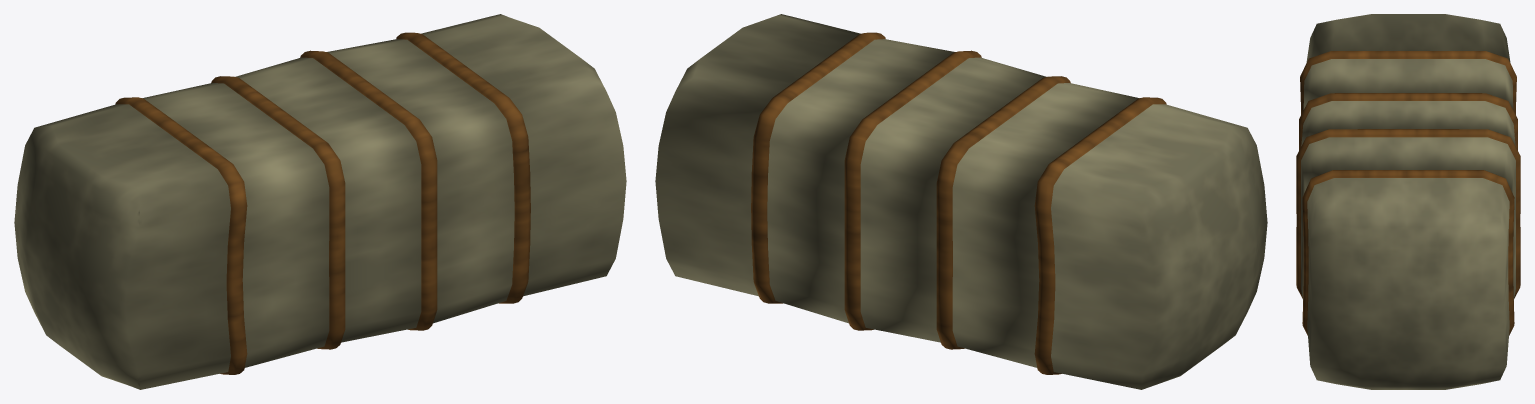
Rendered from bag1.glb.
The picture shows the model from 3 angles, left to right: view 1: azimuth 30°, elevation 25°; view 2: azimuth 150°, elevation 25°; view 3: azimuth 270°, elevation 25°; orthographic projection. The views are drawn at different scales.
Visible parts, largest first — view 1: Bag1; view 2: Bag1; view 3: Bag1.
Boxes of the visible parts, <box> form: Bag1: <box>14,14,626,389</box>; Bag1: <box>655,14,1267,389</box>; Bag1: <box>1296,14,1520,389</box>.
Bounding box in the file's own units: 4.92 × 1.86 × 2.07.
Materials: 2 (2 with a texture image).
